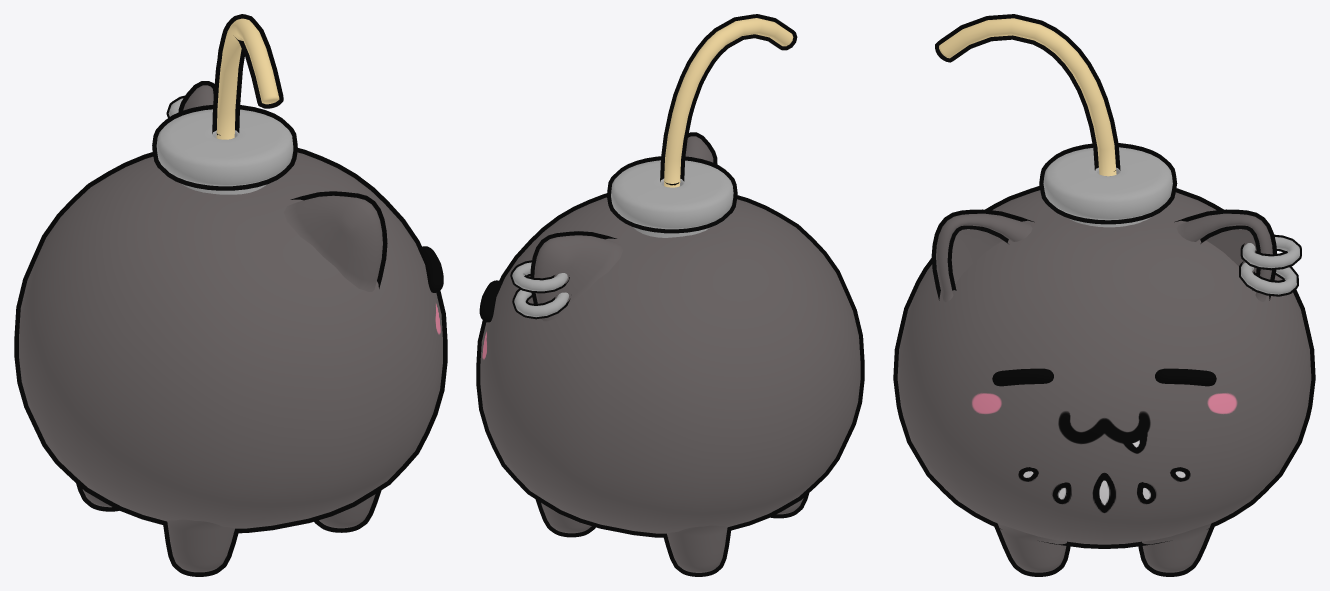
File: botan_ssrb.glb
The picture shows the model from 3 angles, left to right: view 1: azimuth 30°, elevation 25°; view 2: azimuth 150°, elevation 25°; view 3: azimuth 270°, elevation 25°; orthographic projection. The views are drawn at different scales.
Visible parts, largest first — view 1: body, iron, fuse, eyes; view 2: body, iron, fuse, rings, eyes; view 3: body, iron, fuse, rings, eyes.
Boxes of the visible parts, left/top/right/bottom form: body: left=14, top=81, right=447, bottom=576; iron: left=152, top=105, right=297, bottom=194; fuse: left=212, top=14, right=283, bottom=139; eyes: left=418, top=246, right=443, bottom=292; body: left=476, top=132, right=864, bottom=576; iron: left=607, top=156, right=737, bottom=237; fuse: left=660, top=14, right=797, bottom=187; rings: left=510, top=260, right=570, bottom=319; eyes: left=479, top=280, right=502, bottom=322; body: left=893, top=186, right=1315, bottom=576; iron: left=1039, top=143, right=1177, bottom=227; fuse: left=935, top=14, right=1120, bottom=176; rings: left=1239, top=234, right=1301, bottom=296; eyes: left=992, top=368, right=1216, bottom=386.
Size of the model in its own units: 1.91 by 2.61 by 1.97.
5 materials, 1 textured.
